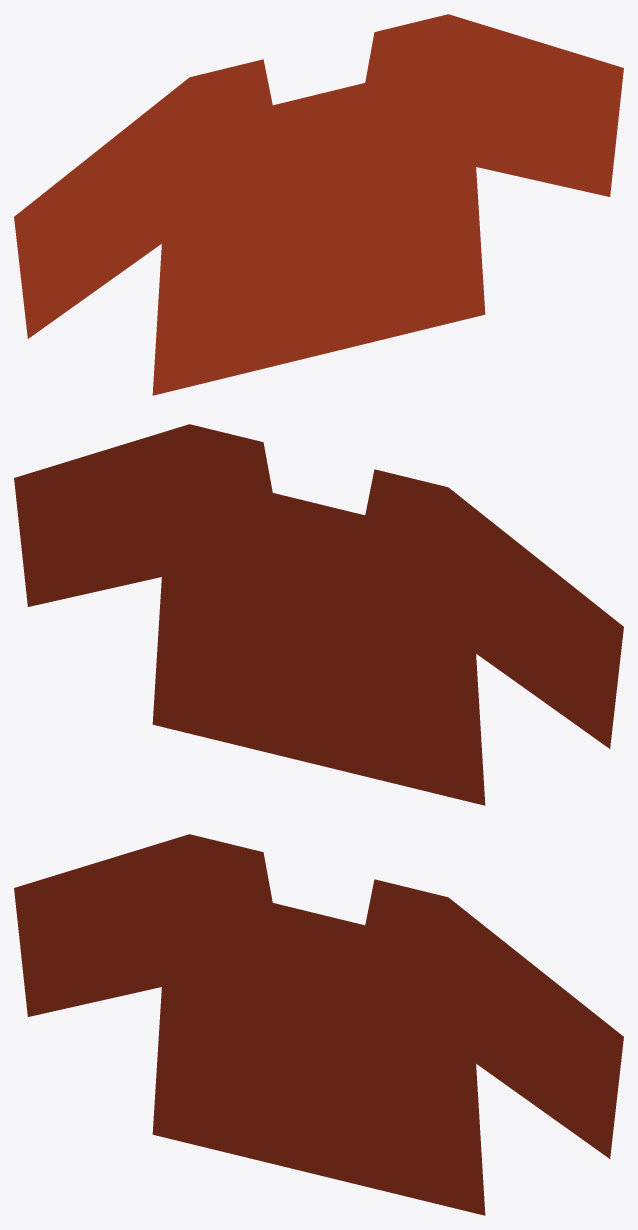
File: Back rest.obj
3 views of the same model, one above another, from view 1: azimuth 30°, elevation 25°; view 2: azimuth 150°, elevation 25°; view 3: azimuth 330°, elevation 25° (orthographic).
Parts seen in each view (by area): view 1: piece_31; view 2: piece_31; view 3: piece_31.
Boxes of the visible parts, box(x1,y1,x2,y2) form: piece_31: box(14, 14, 623, 395); piece_31: box(14, 424, 623, 805); piece_31: box(14, 834, 623, 1215).
Bounding box in the file's own units: 1.32 × 0.64 × 0.
